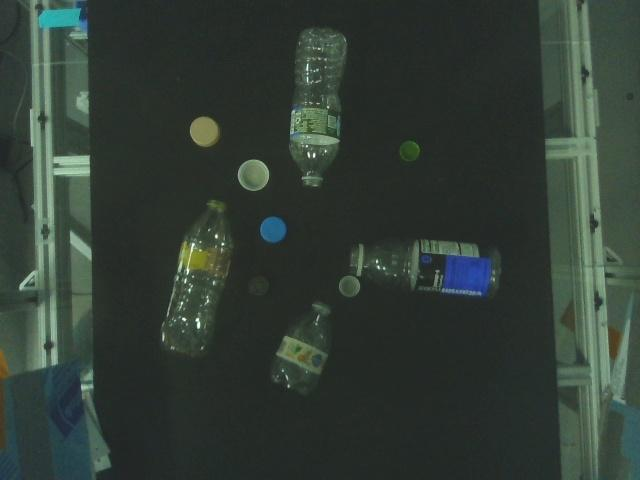plastic: (159, 199, 235, 357), (343, 237, 503, 300), (288, 27, 348, 188), (268, 301, 333, 395), (239, 159, 270, 191), (191, 116, 219, 148), (261, 216, 286, 242), (338, 275, 361, 298), (250, 275, 271, 298), (400, 140, 421, 162)
